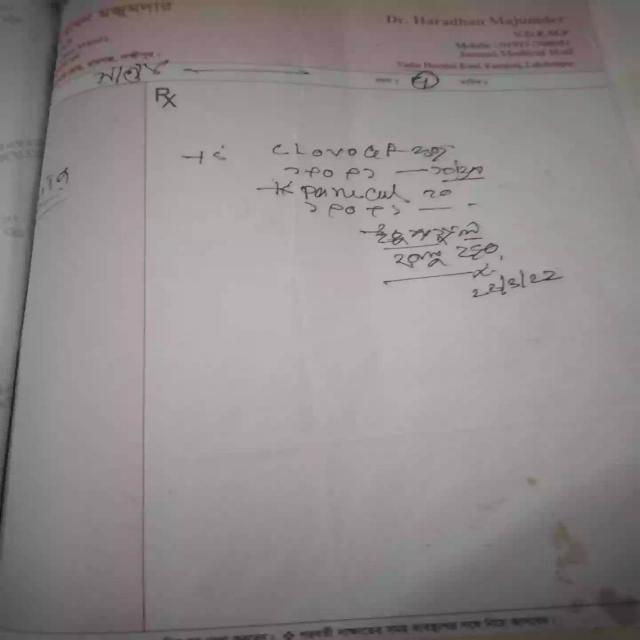Clorocef: (256, 135, 398, 167)
Pancil: (300, 184, 412, 205)
